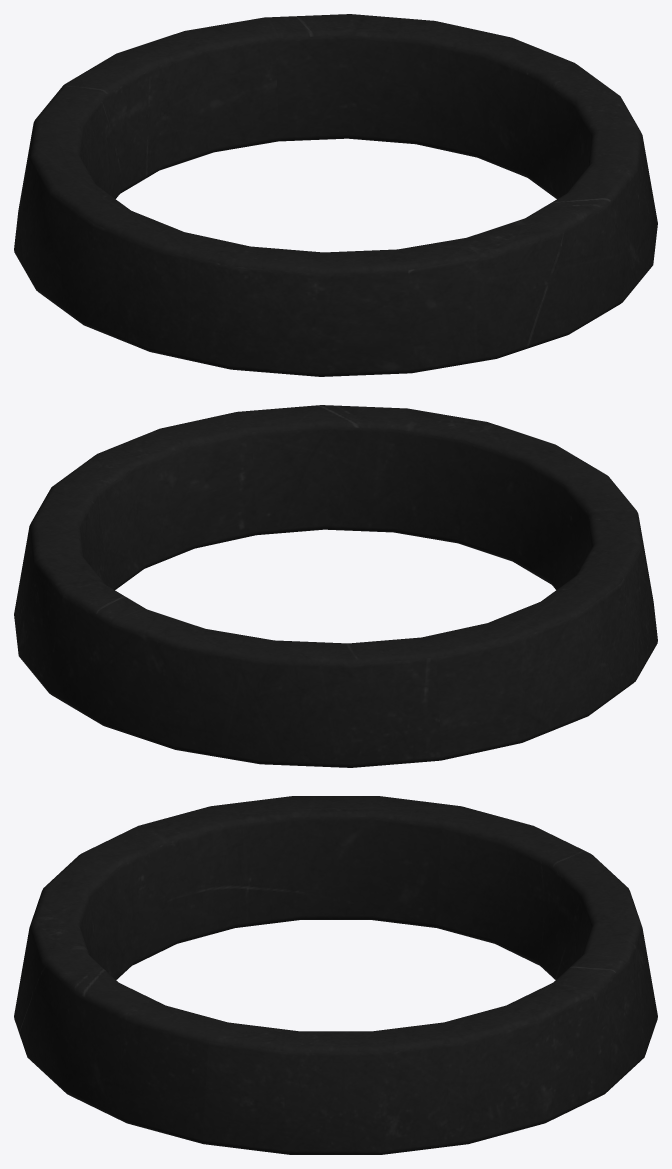
The model's file is Oil seal.fbx.
3 views of the same model, one above another, from view 1: azimuth 30°, elevation 25°; view 2: azimuth 150°, elevation 25°; view 3: azimuth 270°, elevation 25° (orthographic).
Visible parts, largest first — view 1: Cylinder; view 2: Cylinder; view 3: Cylinder.
Part boxes in pixels (x1=…): Cylinder: x1=14, y1=14, x2=657, y2=376; Cylinder: x1=14, y1=405, x2=657, y2=767; Cylinder: x1=14, y1=796, x2=657, y2=1154.
Size of the model in its own units: 57.42 by 10 by 58.01.
1 material, 1 textured.
